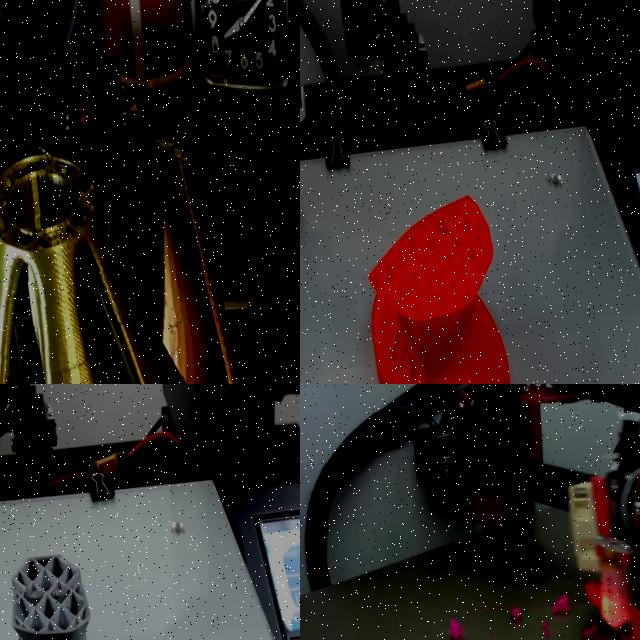spaghetti: (448, 619, 464, 640), (552, 594, 569, 613), (582, 624, 598, 639), (510, 607, 521, 621), (619, 631, 633, 640), (543, 623, 549, 634)
